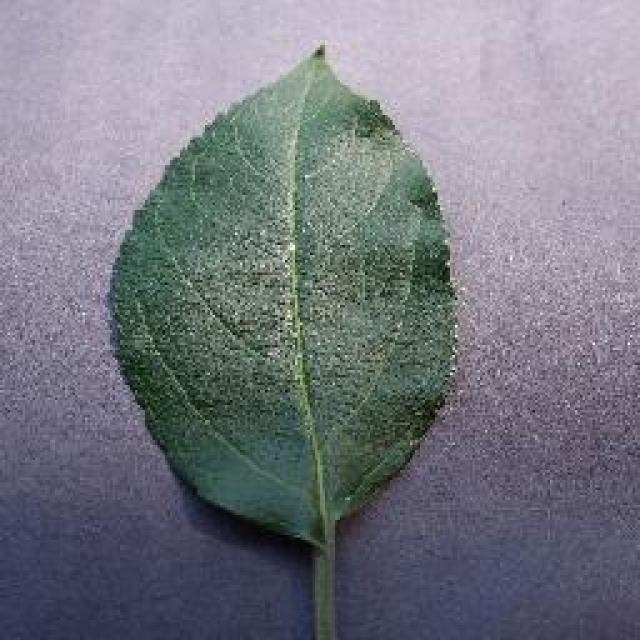apple healthy: (105, 40, 463, 550)
